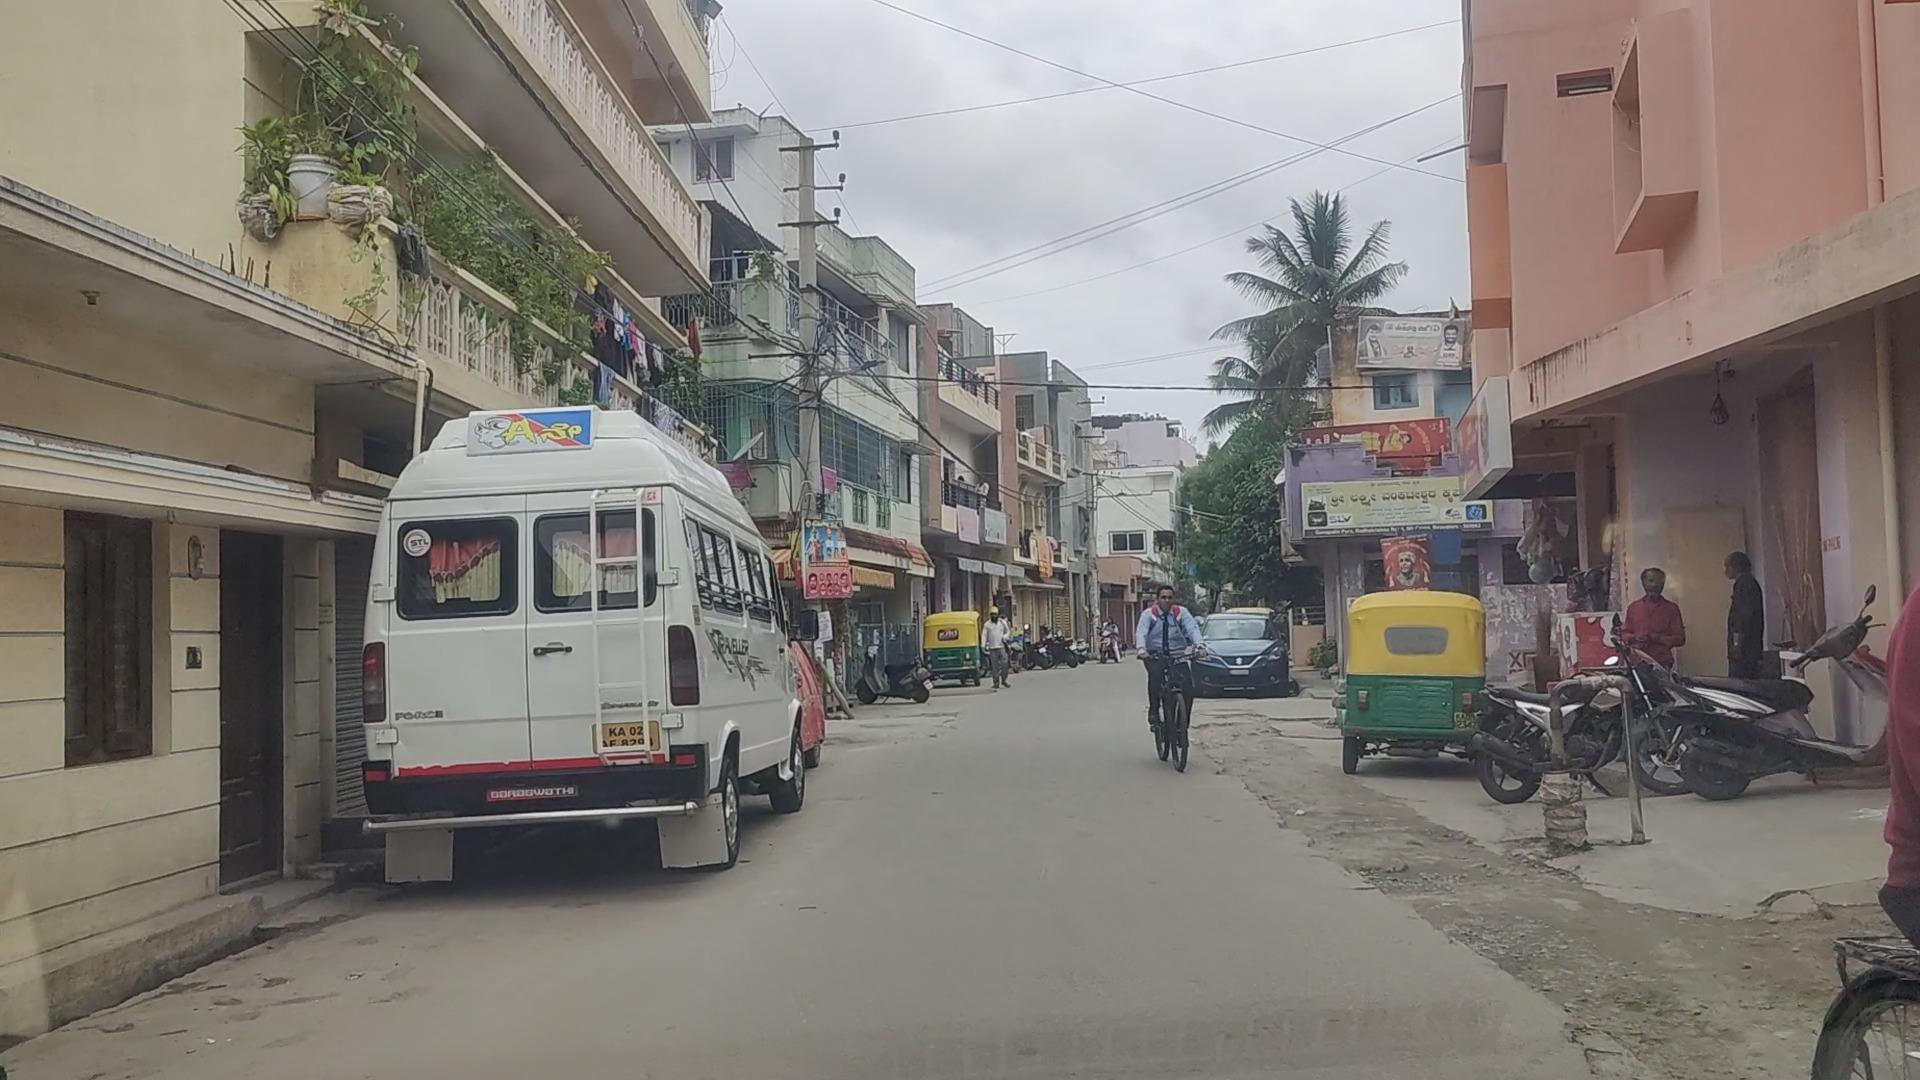HMV: (390, 423, 806, 877)
LMV: (1122, 580, 1195, 760)
RoadDamages: (1547, 891, 1718, 1080), (1337, 800, 1472, 936), (1207, 727, 1309, 812)
